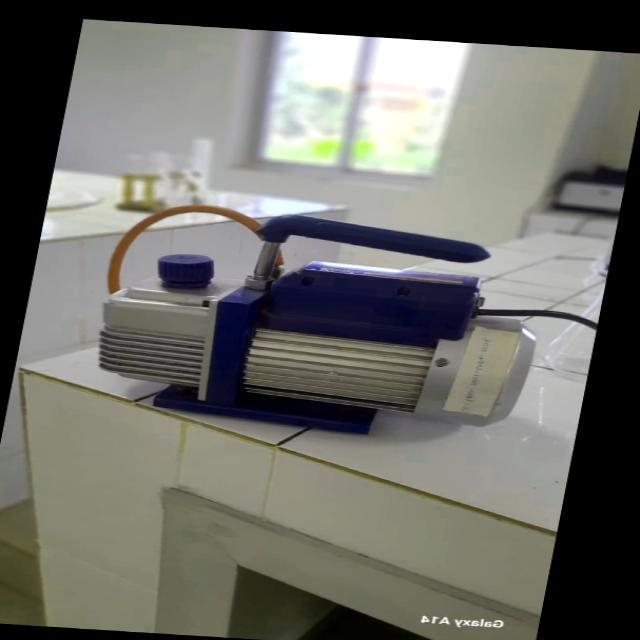Vacuum Pump: (25, 199, 573, 452)
